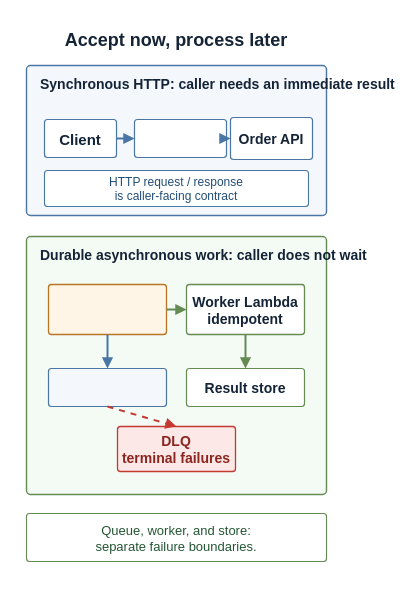
The diagram is 412 pixels wide and 603 high, and some of its shapes have lost their labels. The centre of each missing label's shape, as x and y in pixels:
Amazon SQS durable queue: pixel 107 309
API Gateway: pixel 180 138
Retry with backoff: pixel 107 387
